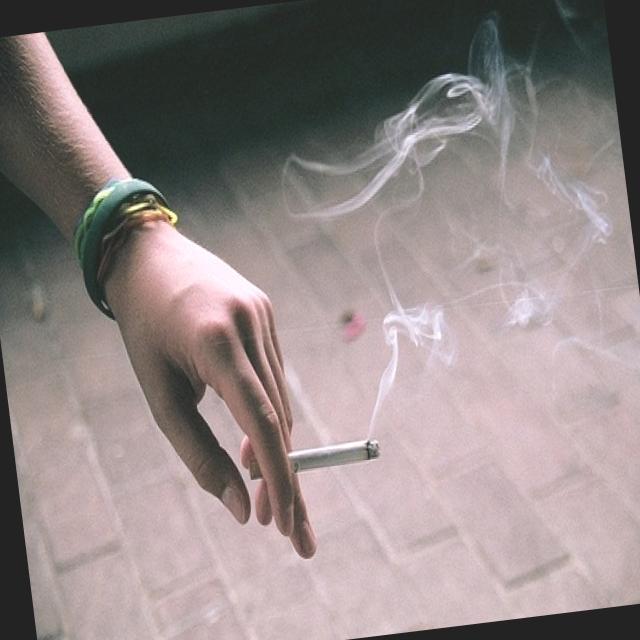cigarette: (284, 435, 382, 475)
